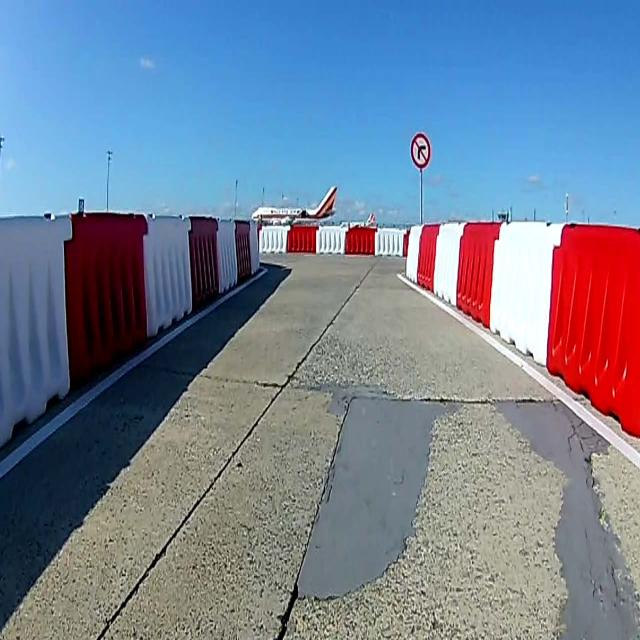sagadonulmez: (410, 132, 431, 168)
